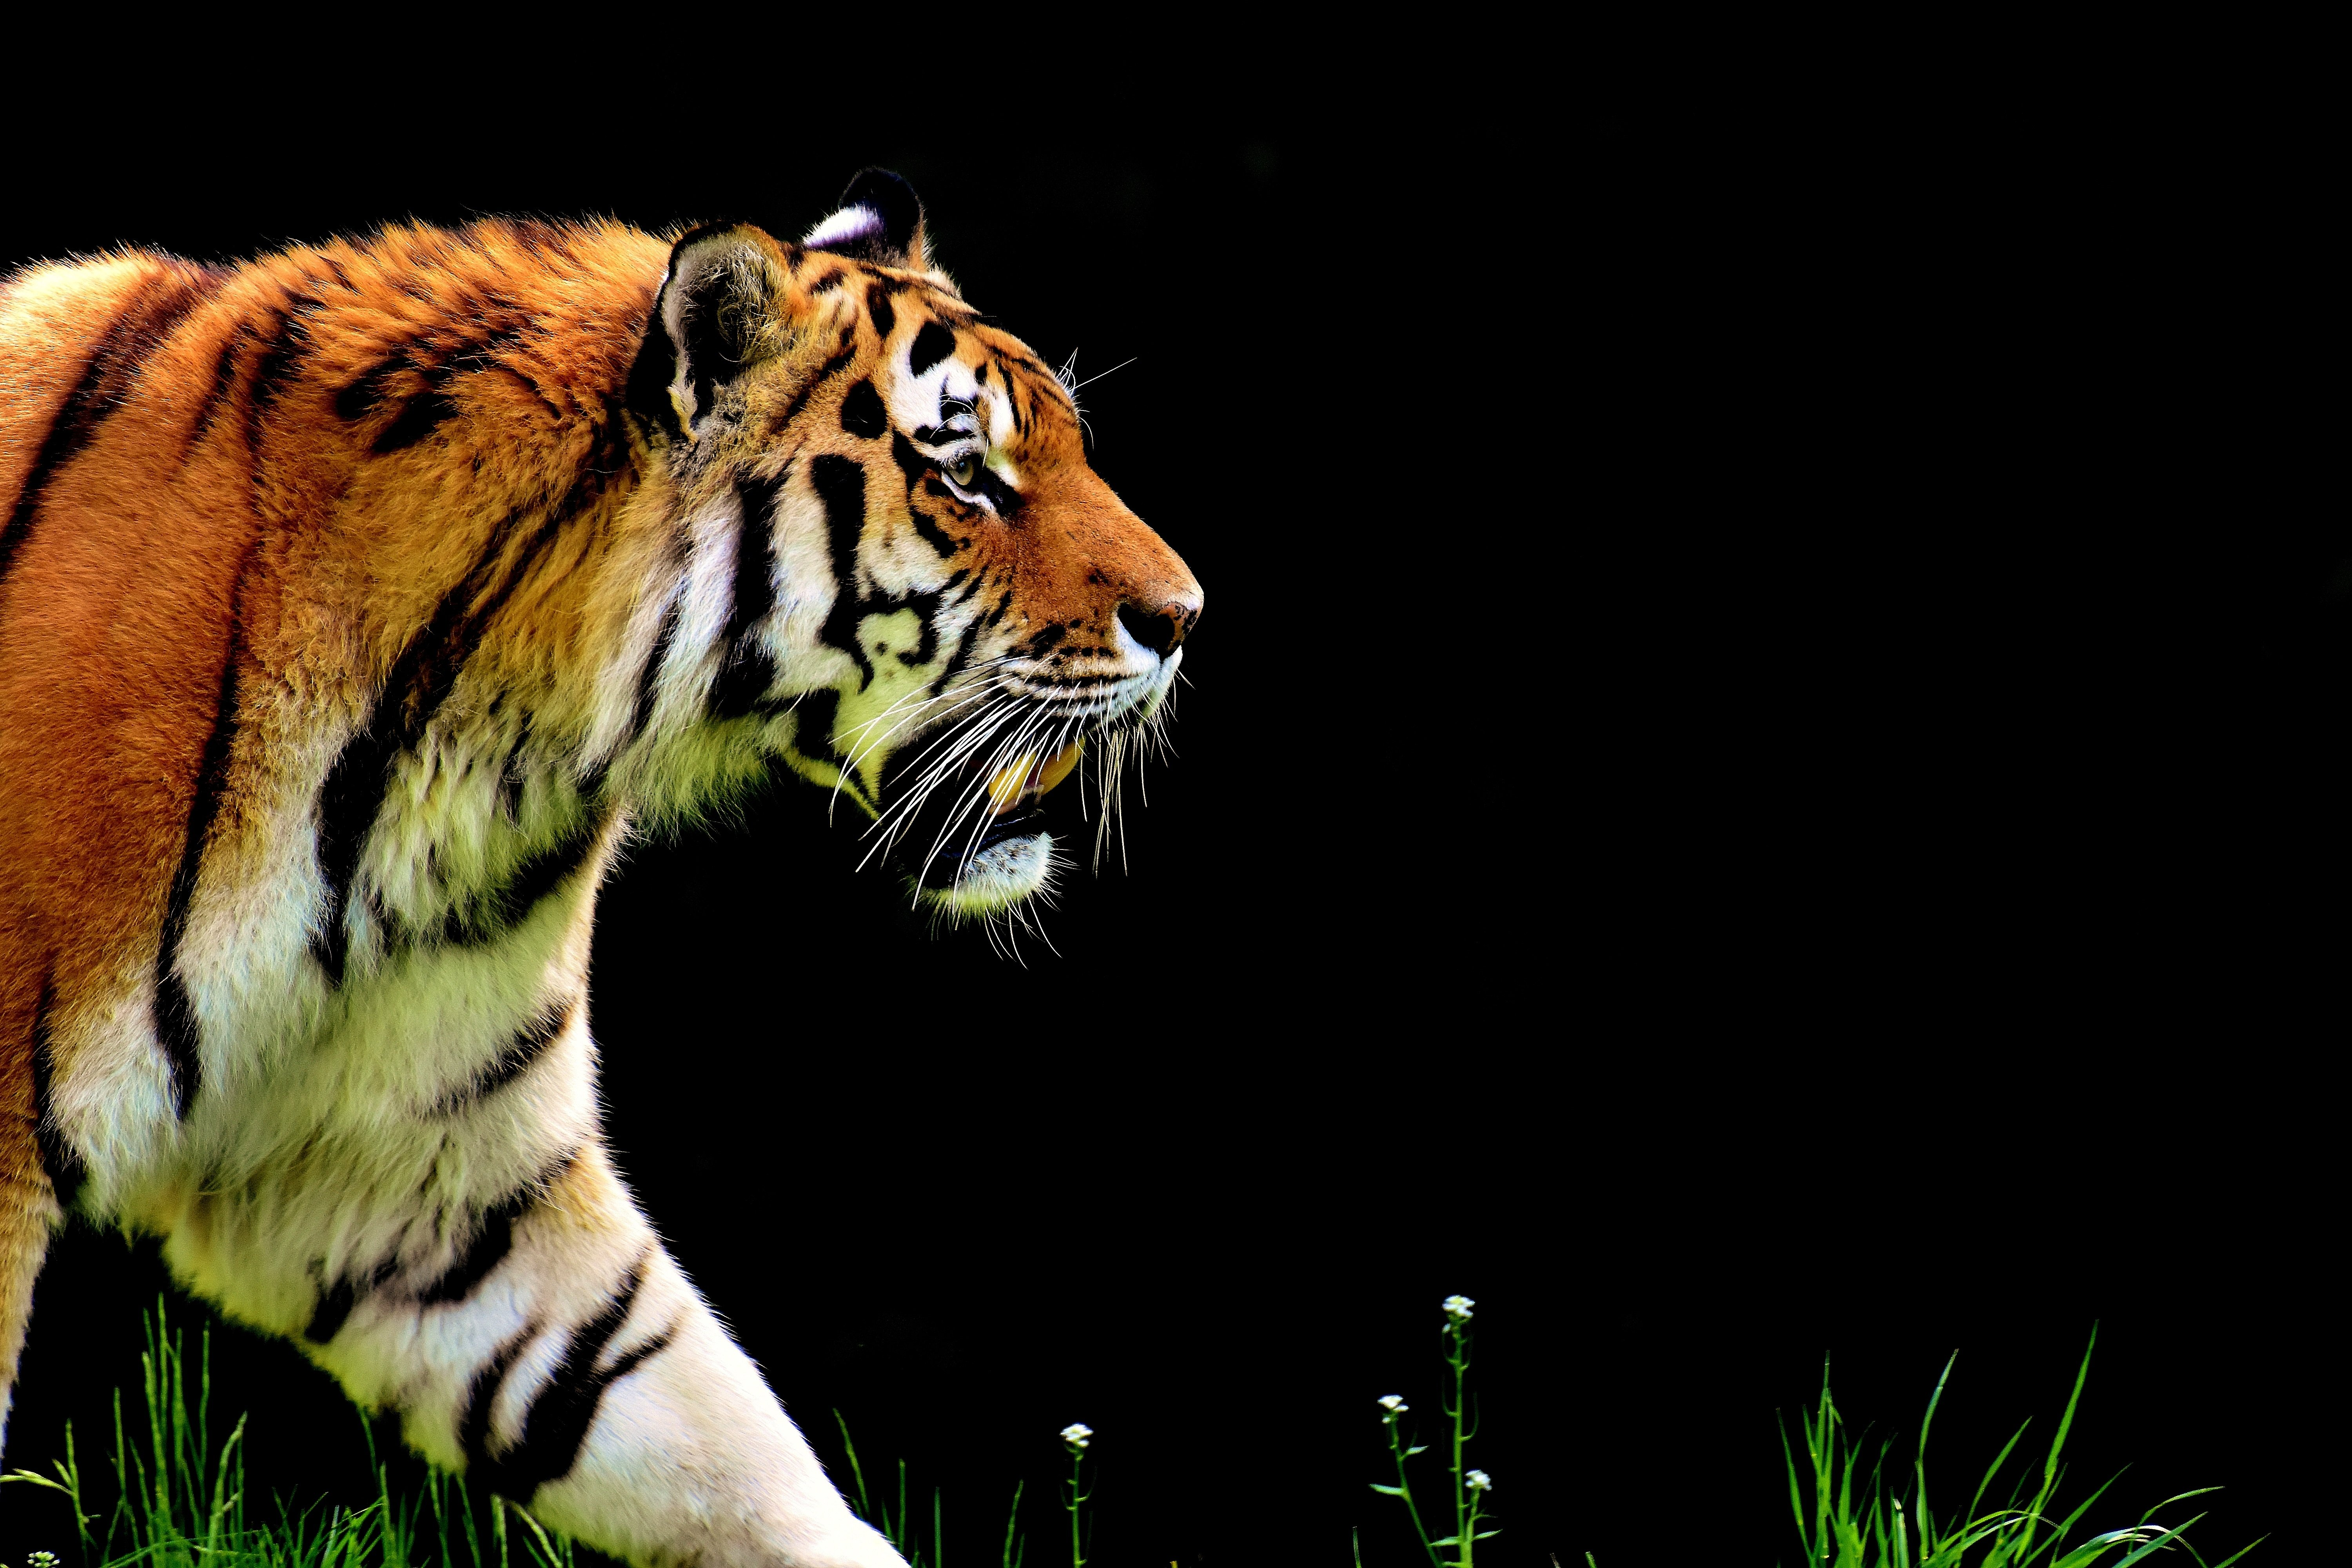tiger: (96, 143, 1151, 1521)
